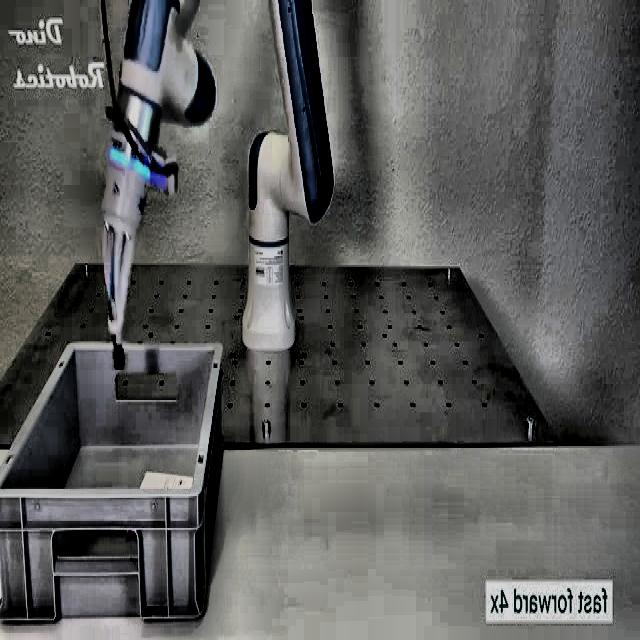robot: (100, 0, 345, 377)
